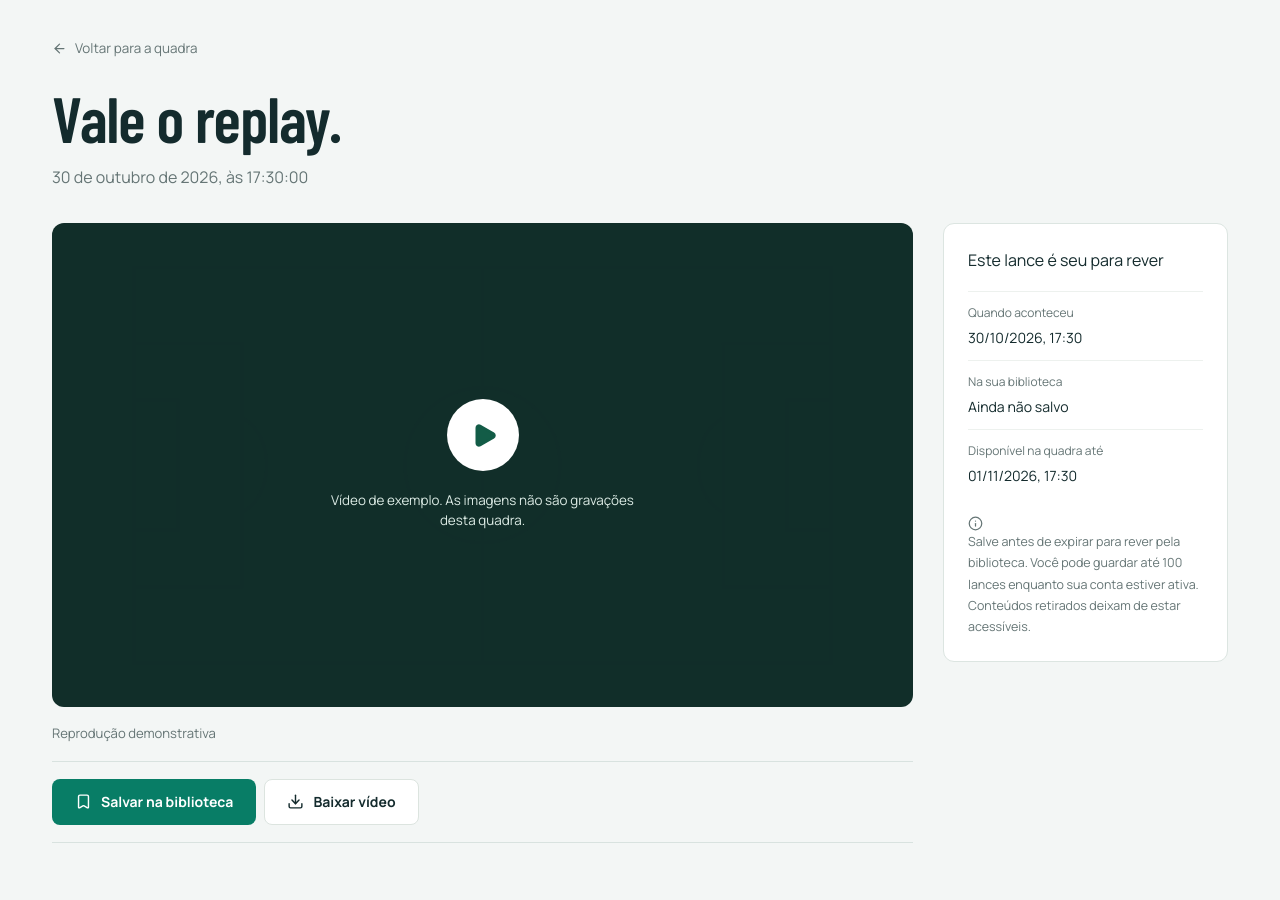
Test: Reprodução e biblioteca › mantém salvar disponível sem anunciar sucesso quando o servidor recusa
The image size is (1280, 900).
Click the button "Salvar na biblioteca".
click(154, 802)  # box [52,779,256,825]
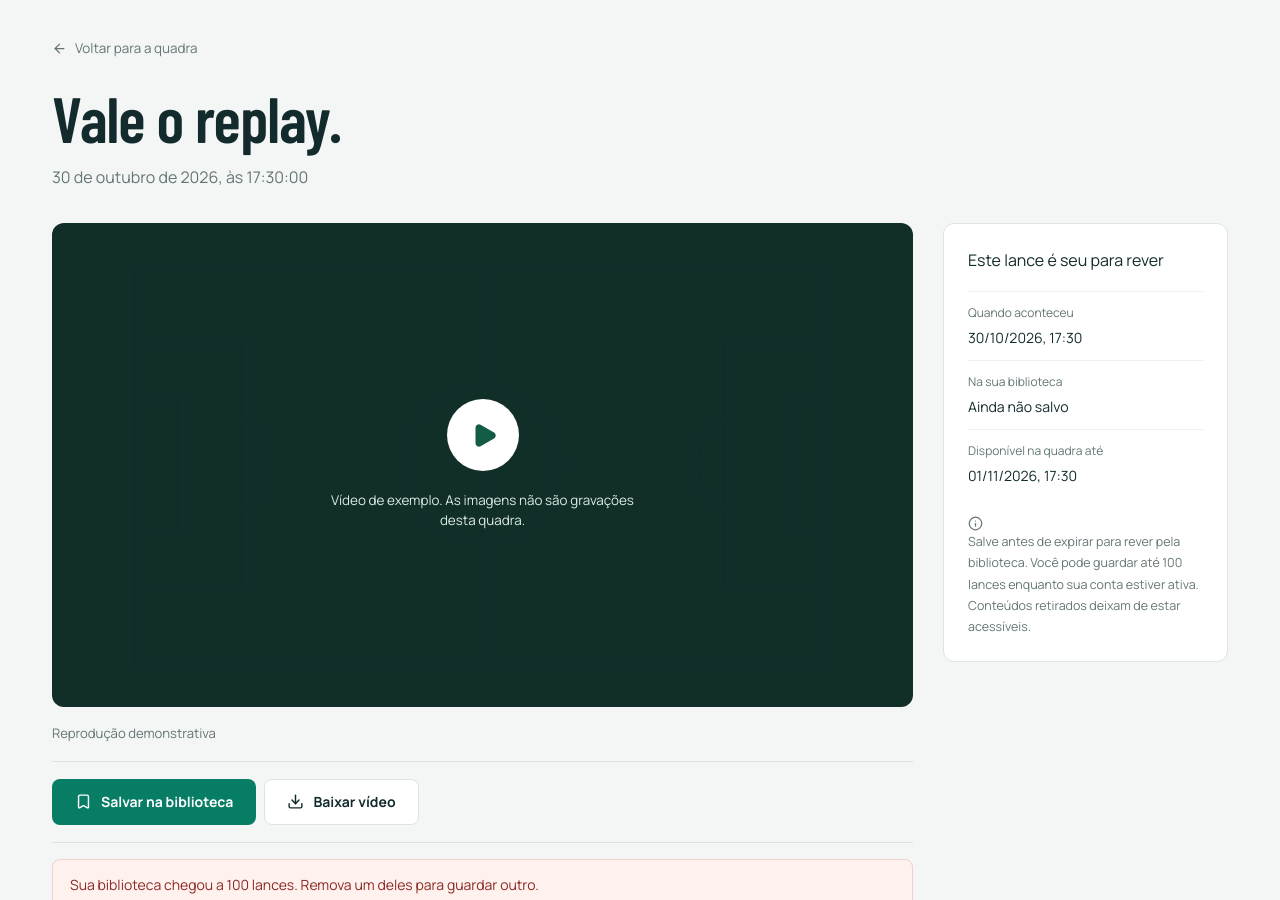
Check: the message shows "Sua biblioteca chegou a 100 lances", box [70,875,539,894]
